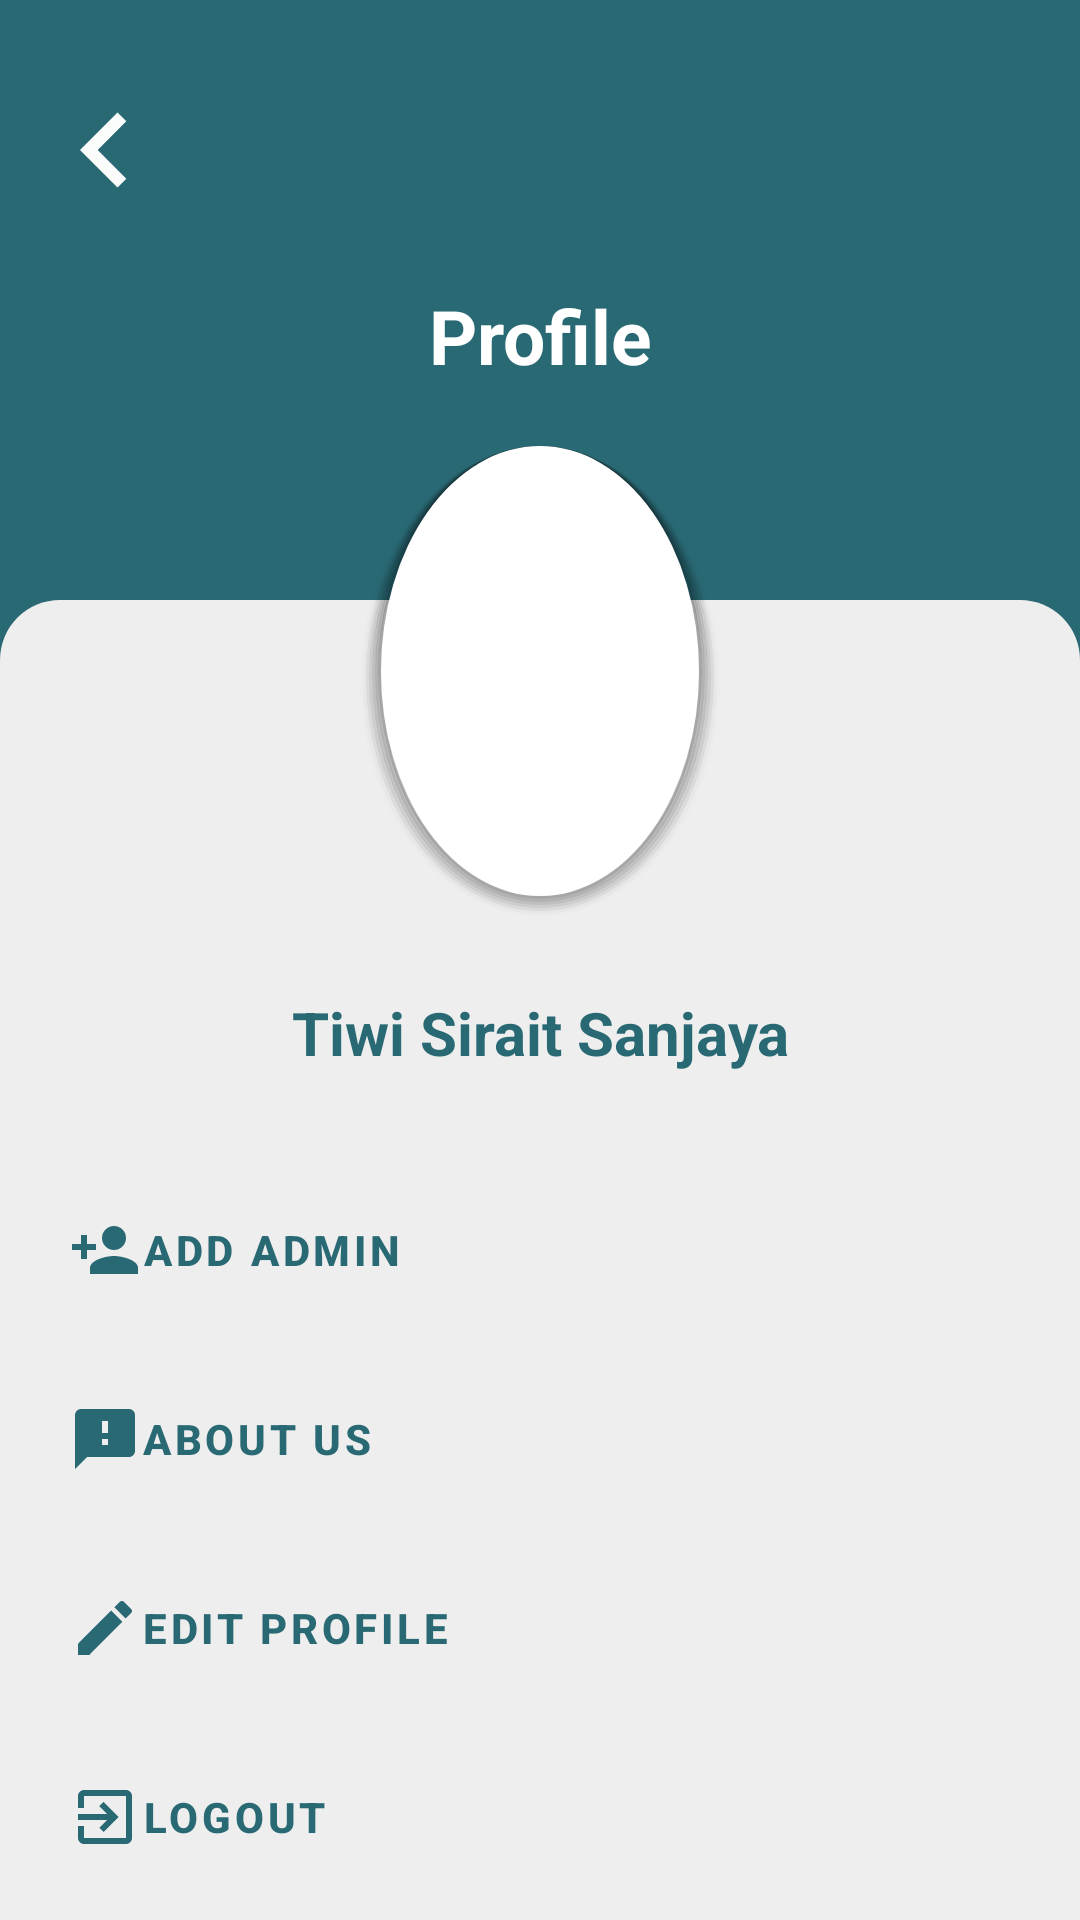

Named icons in this screenshot (1080×1920) and their bounding boxes, (x1, y1, x2, y2):
back: (80, 112, 126, 188)
